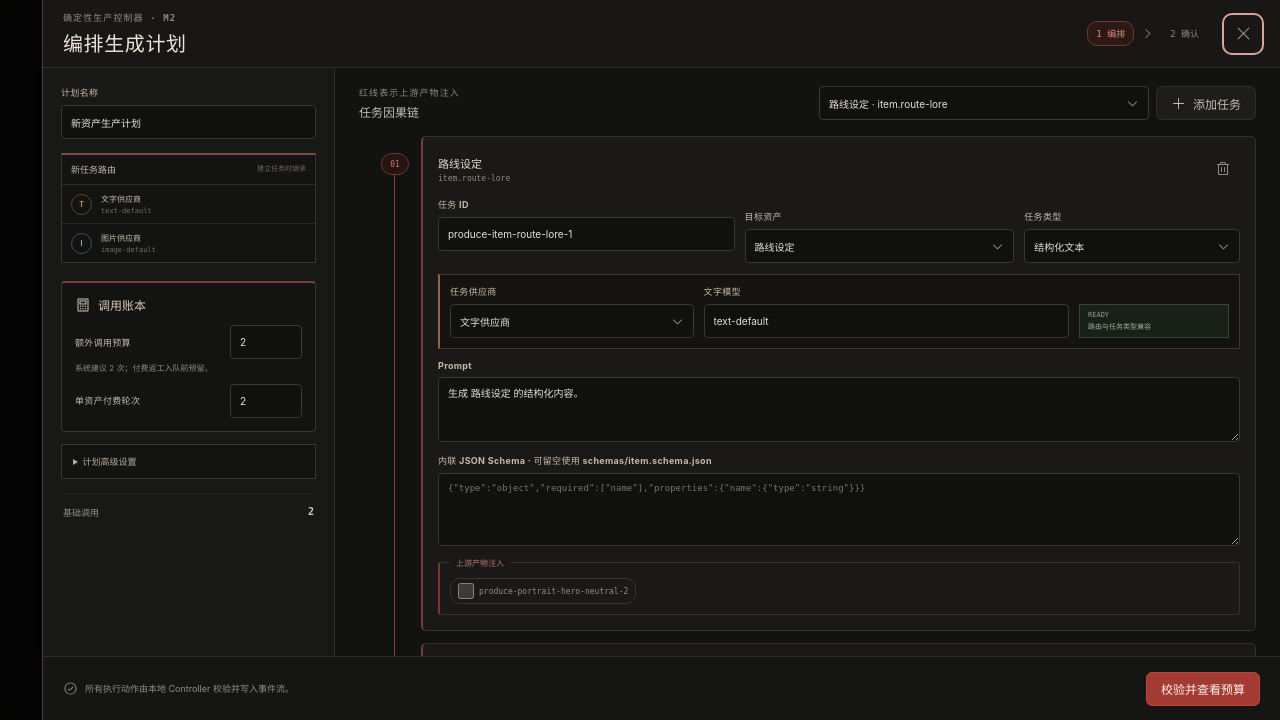
Scenario: M2 生产抽屉 › 混合任务分别继承文字与图片路由，且不再展示渠道价格或成本路由
This screenshot has width=1280, height=720.
Expected: the dropdown named "任务供应商" holds "provider-text", [450,304,694,338]
Expected: the field labelled "文字模型" holds "text-default", [704,304,1069,338]
Click the button "校验并查看预算": (1203, 688) [1146,672,1260,706]
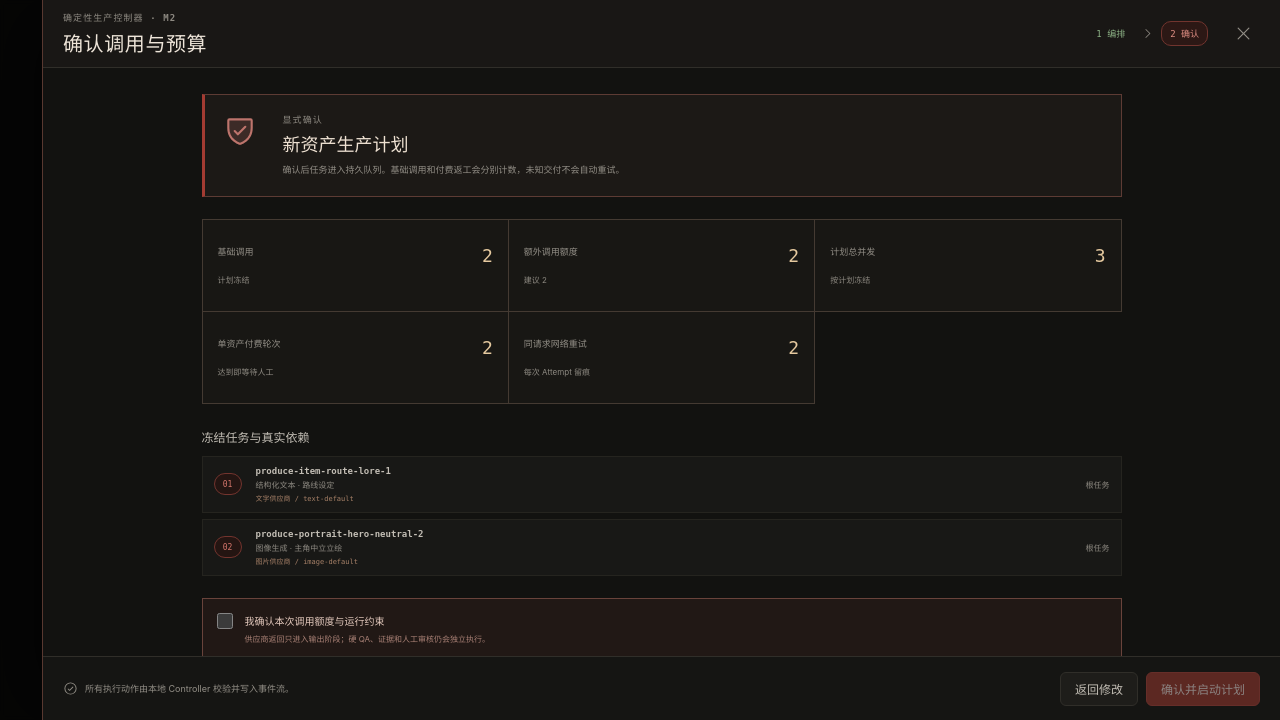
Expected: the text "文字供应商 / text-default" is shown, [256,495,354,503]
Expected: the text "图片供应商 / image-default" is shown, [256,558,358,566]
